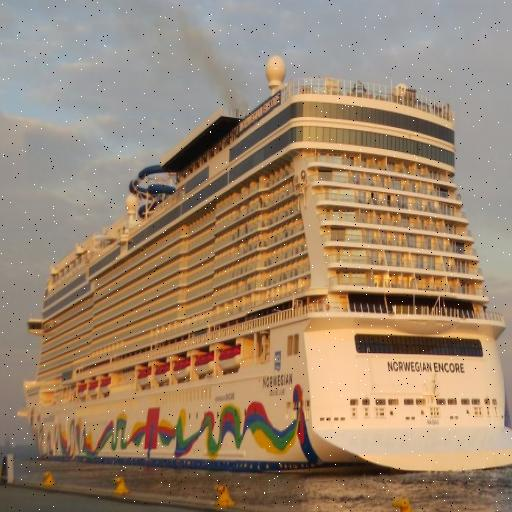cruises: (15, 53, 512, 491)
